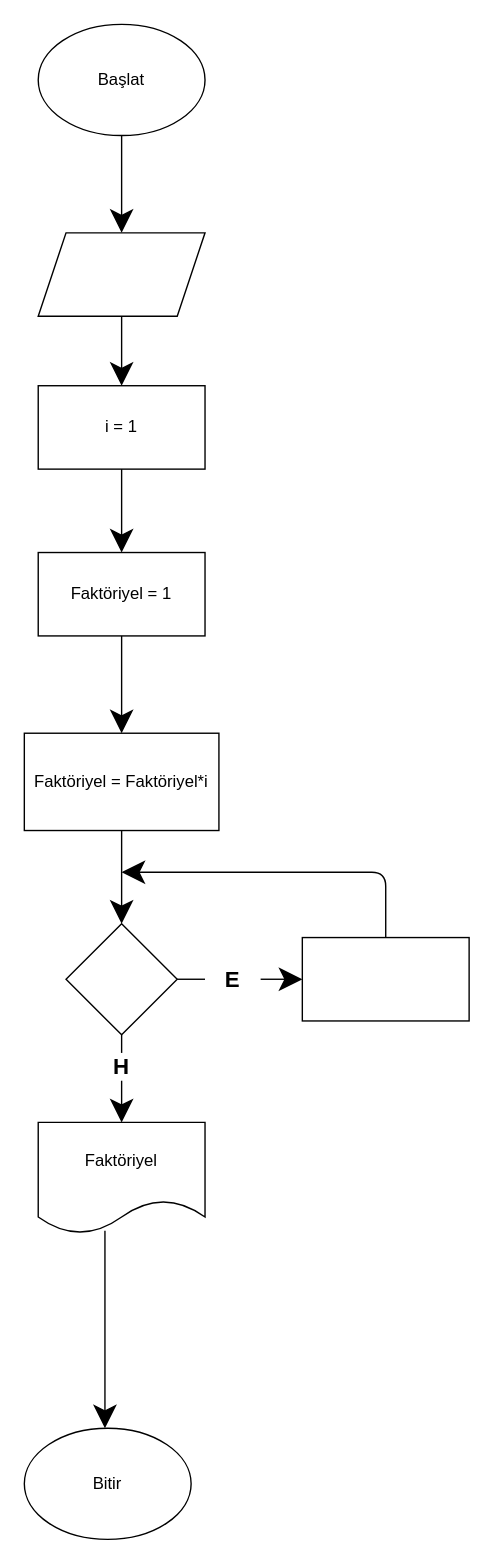
This 493x1564 diagram has some shape labels left out. The centre of each missing label's shape, as x and y in pixels:
i < Sayı: pixel 121 978
i = i + 1: pixel 385 978
Sayı: pixel 121 273
